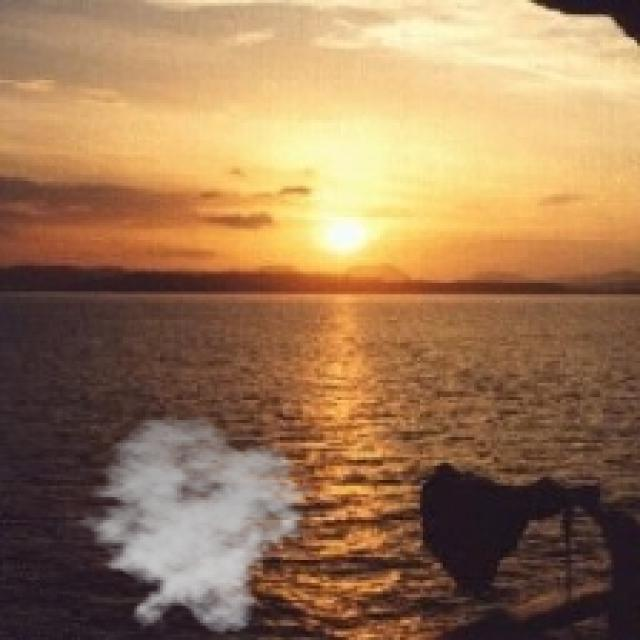Smoke: (63, 414, 314, 634)
